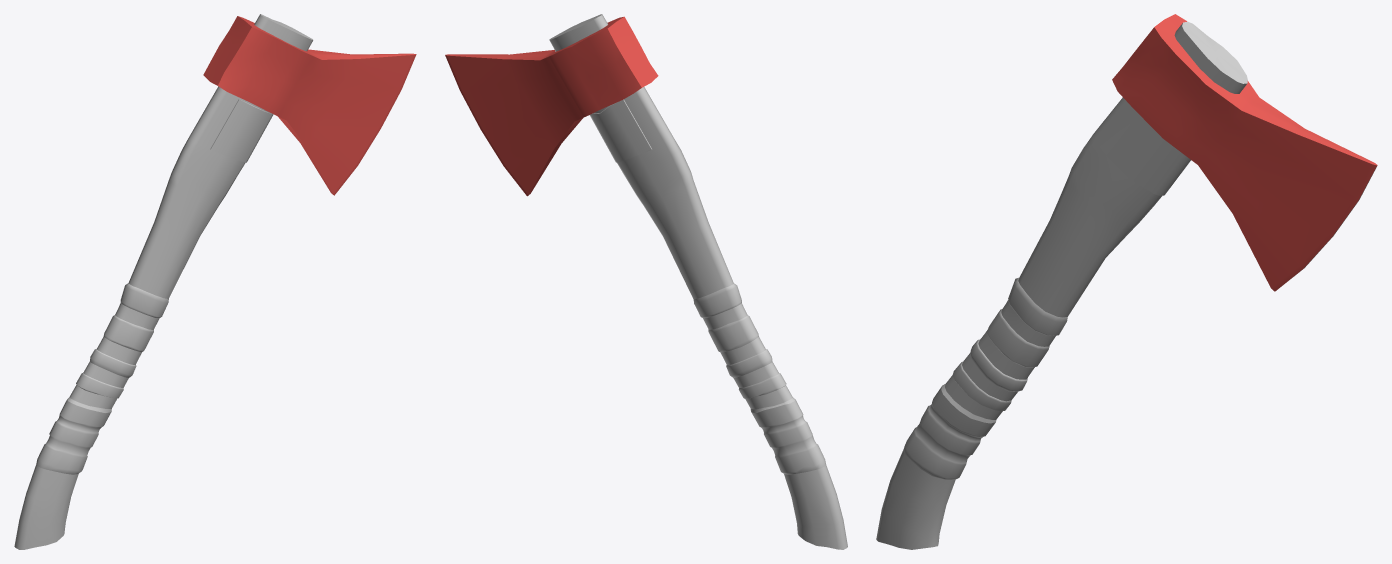
3 renders of one model, left to right at view 1: azimuth 30°, elevation 25°; view 2: azimuth 150°, elevation 25°; view 3: azimuth 330°, elevation 25°, orthographic. The views are drawn at different scales.
Visible parts, largest first — view 1: hatchet, hatchet.001; view 2: hatchet, hatchet.001; view 3: hatchet, hatchet.001.
Boxes of the visible parts, x1,y1,x2,y2 form: hatchet: (14, 14, 313, 549); hatchet.001: (203, 16, 416, 195); hatchet: (549, 14, 847, 549); hatchet.001: (445, 16, 658, 196); hatchet: (876, 21, 1376, 549); hatchet.001: (1112, 14, 1377, 291).
Size of the model in its own units: 24.6 by 27.71 by 2.39.
